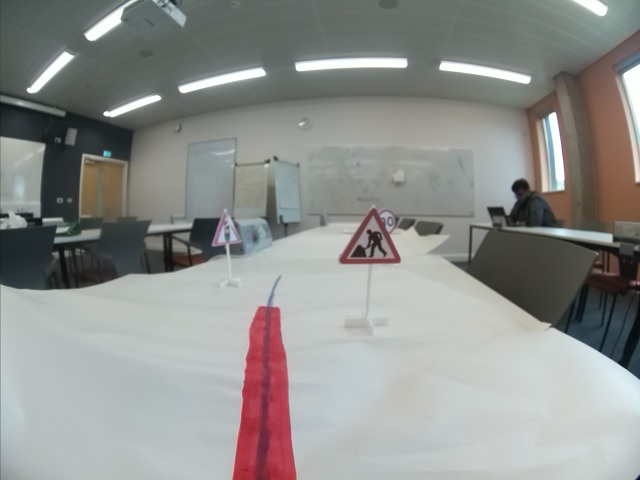30mph: (378, 209, 397, 235)
Roadworks: (337, 204, 402, 264)
Traffic lights: (211, 208, 243, 246)
